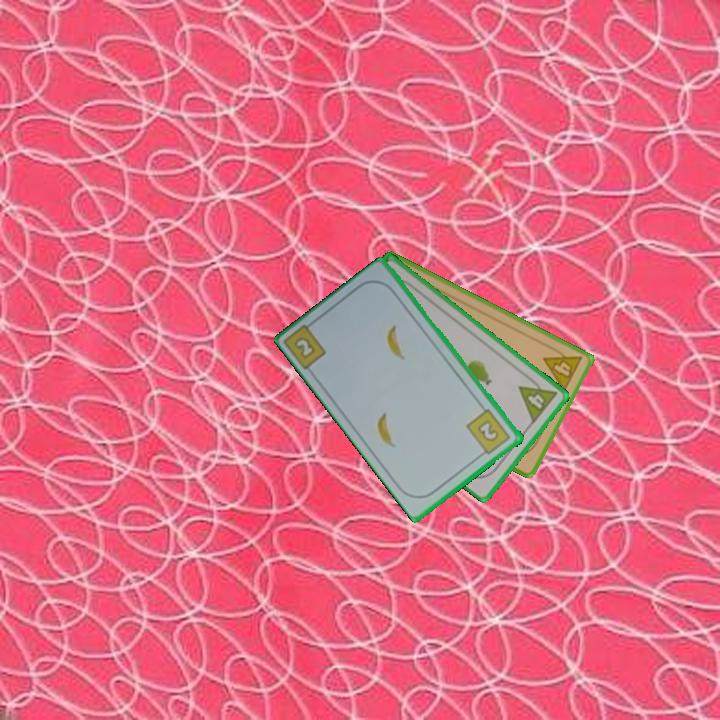2b: (463, 405, 514, 459), (282, 316, 330, 373)
4p: (515, 372, 560, 426), (540, 342, 585, 395)
